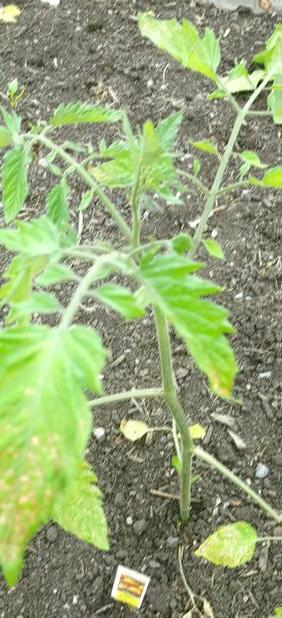Tomato leaf bacterial spot: (0, 291, 115, 593), (131, 247, 253, 402), (133, 5, 228, 92), (250, 14, 282, 91)
